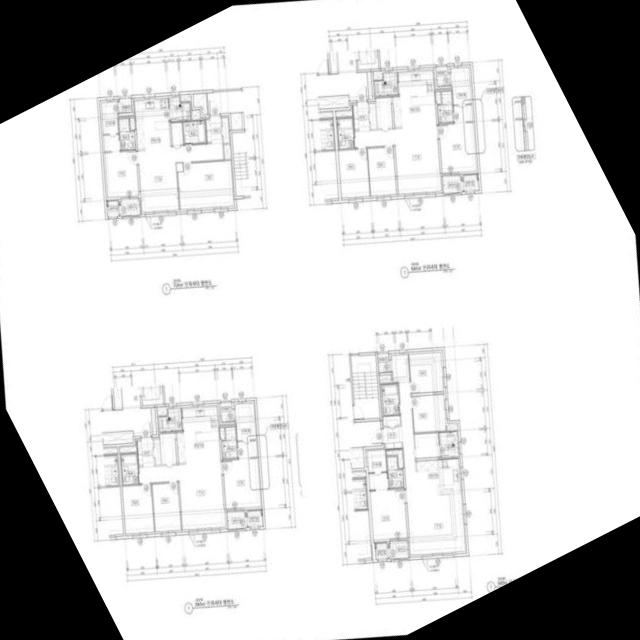background: (0, 0, 640, 640)
space_balconi: (158, 408, 182, 432), (374, 72, 398, 96), (438, 431, 458, 458), (168, 97, 190, 121), (226, 511, 247, 529), (442, 175, 463, 193), (118, 199, 140, 216), (388, 541, 408, 559)
space_bedroom: (177, 160, 233, 209), (369, 489, 407, 540), (222, 458, 260, 509), (438, 123, 476, 173), (122, 484, 154, 534), (104, 151, 138, 197), (338, 148, 369, 198), (151, 483, 180, 532), (367, 147, 396, 196), (409, 352, 443, 393), (412, 394, 446, 433)
space_dressroom: (450, 67, 473, 122), (235, 403, 257, 458), (100, 102, 119, 152), (366, 450, 387, 490)
space_front: (205, 115, 229, 144), (136, 437, 154, 466), (352, 102, 370, 130), (381, 426, 402, 449)
space_kitchen: (176, 406, 220, 463), (392, 70, 436, 127), (134, 98, 170, 149), (415, 458, 460, 496)
space_living_room: (391, 354, 465, 555), (138, 460, 225, 530), (354, 124, 441, 194), (137, 143, 223, 212)
space_other: (414, 433, 439, 458), (375, 97, 392, 129), (159, 433, 176, 464), (192, 93, 207, 115), (386, 450, 403, 468), (219, 402, 234, 422), (435, 66, 450, 86), (171, 122, 183, 145), (377, 353, 391, 372), (117, 98, 132, 113), (153, 439, 161, 465), (230, 113, 242, 130), (383, 415, 400, 426), (369, 103, 376, 129), (151, 408, 156, 435), (367, 72, 372, 99), (223, 144, 230, 159), (119, 447, 136, 453), (335, 111, 352, 117), (129, 117, 135, 130), (379, 375, 391, 381), (219, 427, 225, 439), (191, 111, 199, 120), (157, 409, 166, 416), (373, 73, 382, 80), (446, 425, 456, 431), (435, 91, 440, 103), (180, 96, 190, 102)
space_outdoor_room: (463, 174, 479, 192), (247, 510, 263, 527), (374, 543, 388, 560), (106, 200, 118, 217)
space_staircase: (351, 354, 379, 420)
space_toilet: (120, 453, 138, 485), (381, 384, 399, 415), (336, 118, 354, 149), (183, 120, 206, 144), (386, 456, 403, 488), (118, 118, 135, 150), (221, 426, 237, 459), (437, 90, 453, 123)
